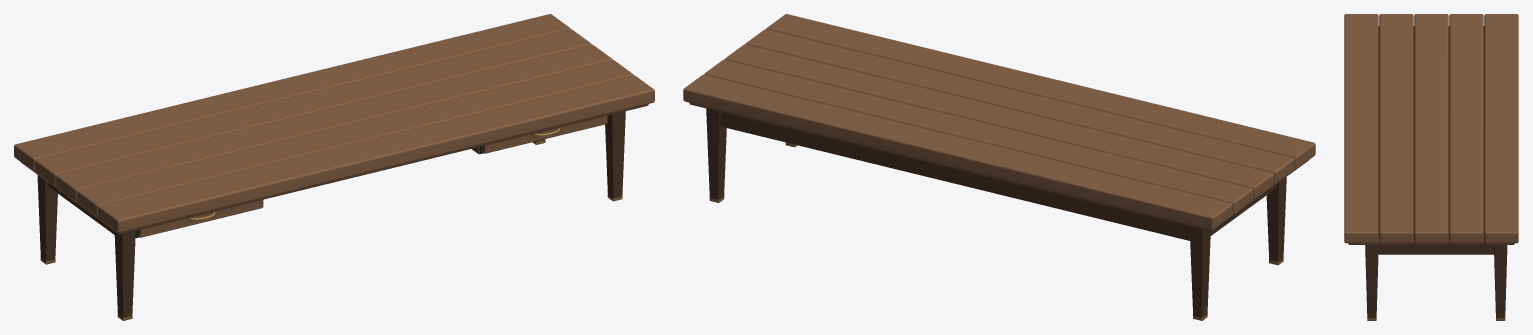
Rendered from desk.glb.
3 renders of one model, left to right at view 1: azimuth 30°, elevation 25°; view 2: azimuth 150°, elevation 25°; view 3: azimuth 270°, elevation 25°, orthographic. The views are drawn at different scales.
Parts seen in each view (by area): view 1: Atelier_Desk; view 2: Atelier_Desk; view 3: Atelier_Desk.
Part boxes in pixels (<box>): Atelier_Desk: <box>14,14,654,320</box>; Atelier_Desk: <box>683,14,1315,320</box>; Atelier_Desk: <box>1344,14,1518,320</box>.
Size of the model in its own units: 5.4 by 1.11 by 1.82.
